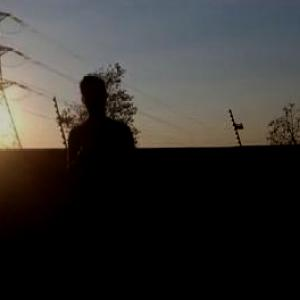follow: (64, 71, 164, 299)
